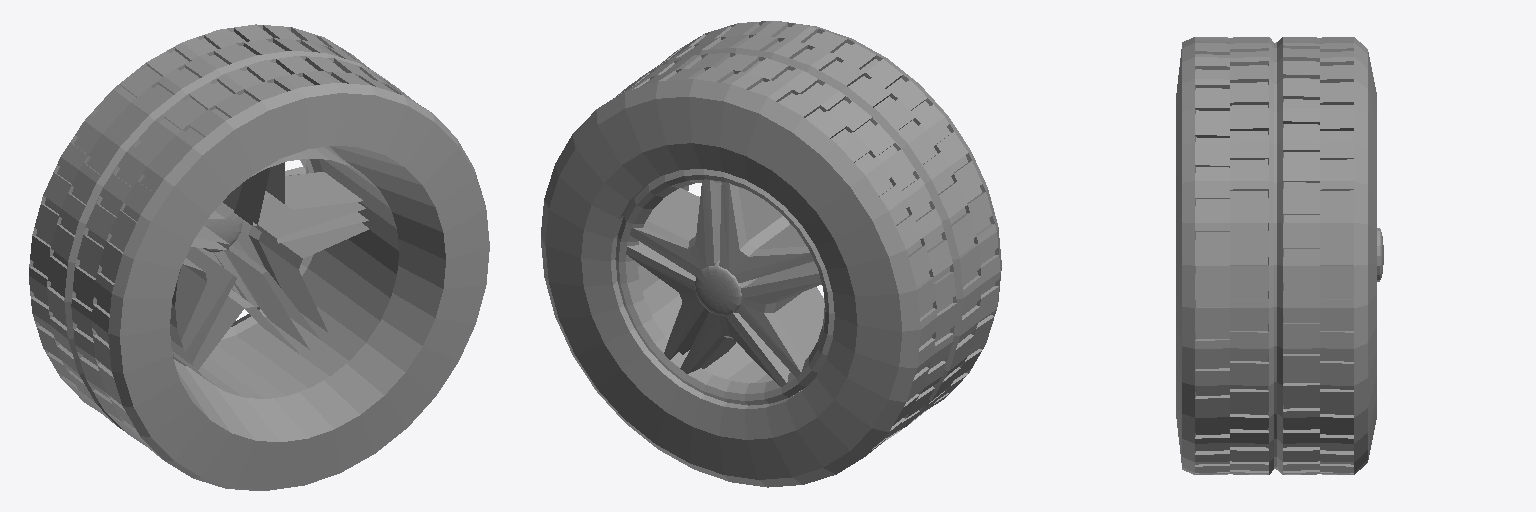
The model's file is wlr.obj.
3 views of the same model, side by side, from view 1: azimuth 30°, elevation 25°; view 2: azimuth 150°, elevation 25°; view 3: azimuth 270°, elevation 25° (orthographic).
Parts seen in each view (by area): view 1: Коло.008_Коло.013, Коло.007_Коло.012, Sphere.004; view 2: Коло.008_Коло.013, Коло.007_Коло.012, Sphere.004; view 3: Коло.008_Коло.013.
Part boxes in pixels (bbox=[...]): Коло.008_Коло.013: bbox=[29, 24, 489, 490]; Коло.007_Коло.012: bbox=[172, 158, 368, 369]; Sphere.004: bbox=[203, 212, 242, 251]; Коло.008_Коло.013: bbox=[541, 21, 1001, 487]; Коло.007_Коло.012: bbox=[615, 169, 834, 405]; Sphere.004: bbox=[695, 265, 741, 315]; Коло.008_Коло.013: bbox=[1176, 37, 1376, 474].
Bounding box in the file's own units: 2.97 × 2.97 × 1.4.